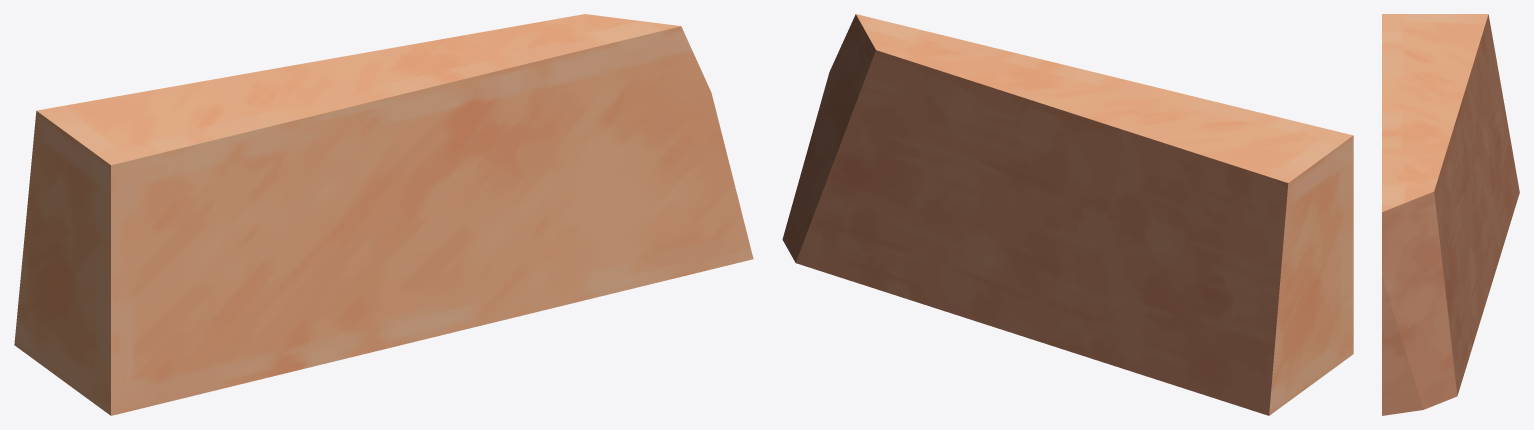
The model's file is divan_s02.fbx.
3 views of the same model, side by side, from view 1: azimuth 30°, elevation 25°; view 2: azimuth 150°, elevation 25°; view 3: azimuth 270°, elevation 25° (orthographic). The views are drawn at different scales.
Visible parts, largest first — view 1: divan_s02; view 2: divan_s02; view 3: divan_s02.
Boxes of the visible parts, x1,y1,x2,y2 form: divan_s02: (14,14,753,415); divan_s02: (782,14,1353,415); divan_s02: (1382,14,1519,415).
Size of the model in its own units: 3.35 by 1.25 by 0.8738.
